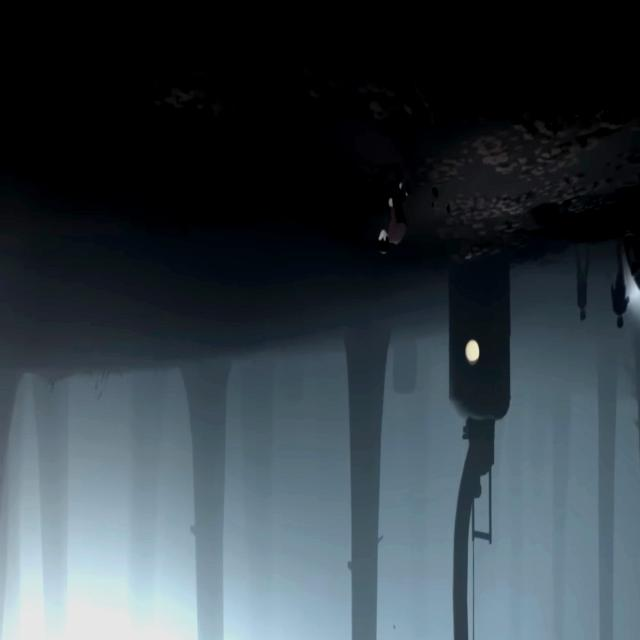boy: (377, 177, 411, 254)
